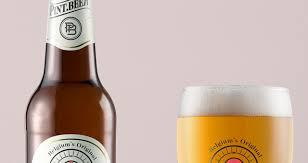Glass bottle: (18, 1, 128, 162)
